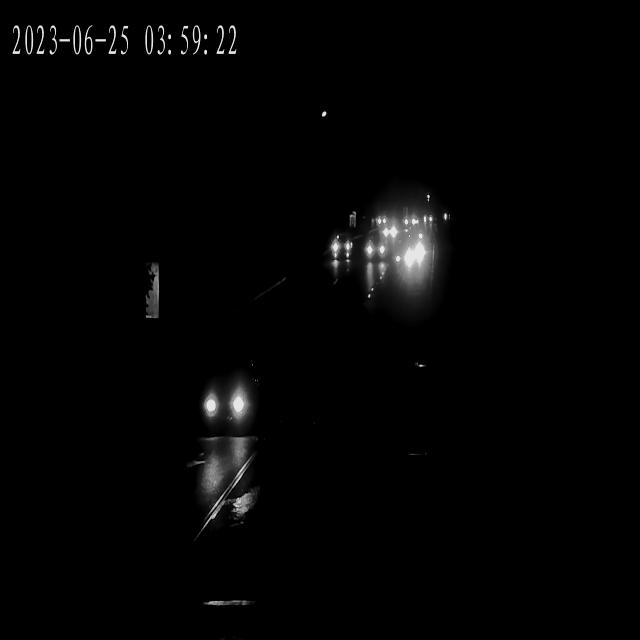Car: (194, 356, 259, 437), (396, 241, 428, 271), (363, 237, 390, 263), (328, 236, 354, 261), (376, 219, 398, 240), (379, 224, 401, 243), (399, 213, 422, 231), (379, 222, 402, 240), (371, 214, 388, 228)
